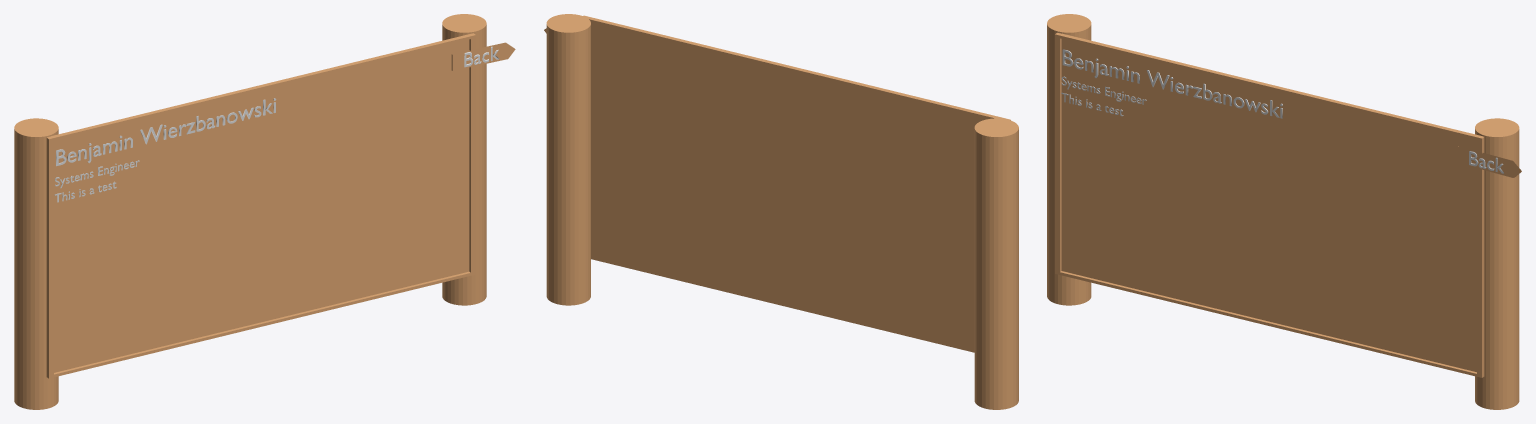
File: AboutMe.glb
The picture shows the model from 3 angles, left to right: view 1: azimuth 30°, elevation 25°; view 2: azimuth 150°, elevation 25°; view 3: azimuth 330°, elevation 25°; orthographic projection.
Visible parts, largest first — view 1: Cube, Cylinder, Cylinder.001, Text, BackArrow; view 2: Cube, Cylinder, Cylinder.001; view 3: Cube, Cylinder.001, Cylinder, Text, BackArrow.
Part boxes in pixels (box(x1,y1,x2,y2)): Cube: box(46, 33, 475, 378); Cylinder: box(14, 118, 58, 409); Cylinder.001: box(442, 14, 486, 305); Text: box(56, 98, 276, 166); BackArrow: box(451, 42, 515, 70); Cube: box(583, 15, 1010, 352); Cylinder: box(974, 118, 1018, 409); Cylinder.001: box(546, 14, 590, 305); Cube: box(1055, 32, 1484, 377); Cylinder.001: box(1475, 118, 1519, 409); Cylinder: box(1047, 14, 1091, 305); Text: box(1062, 49, 1282, 118); BackArrow: box(1458, 146, 1521, 177).
Bounding box in the file's own units: 14.57 × 7.84 × 1.31.
